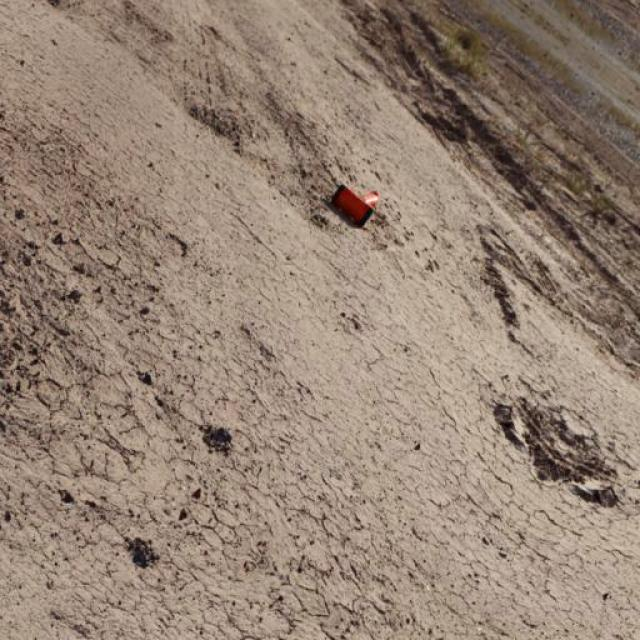mallet: (329, 182, 380, 226)
